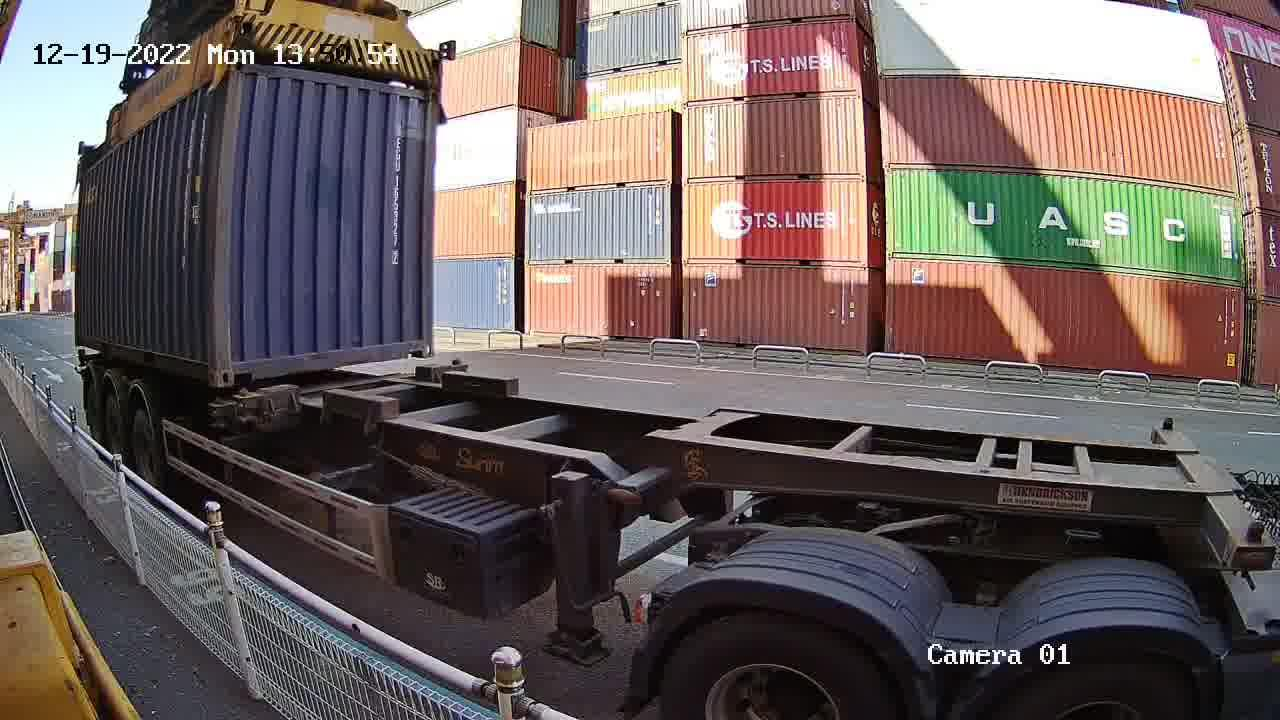Chassis: (223, 372, 414, 409)
Cone: (204, 397, 230, 427)
Hole_L: (219, 348, 255, 384)
Hole_R: (190, 346, 221, 387), (405, 326, 436, 357)
Tire: (131, 405, 157, 477), (105, 390, 123, 447), (86, 374, 97, 432)
